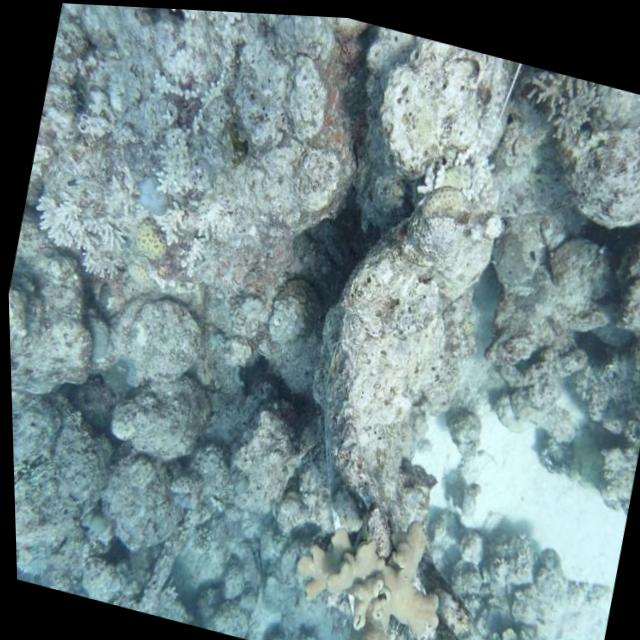Bleached Coral: (29, 1, 257, 223), (402, 114, 535, 262), (10, 158, 147, 299)
